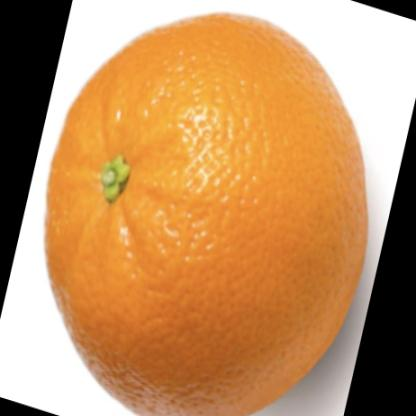fresh: (47, 12, 368, 416)
